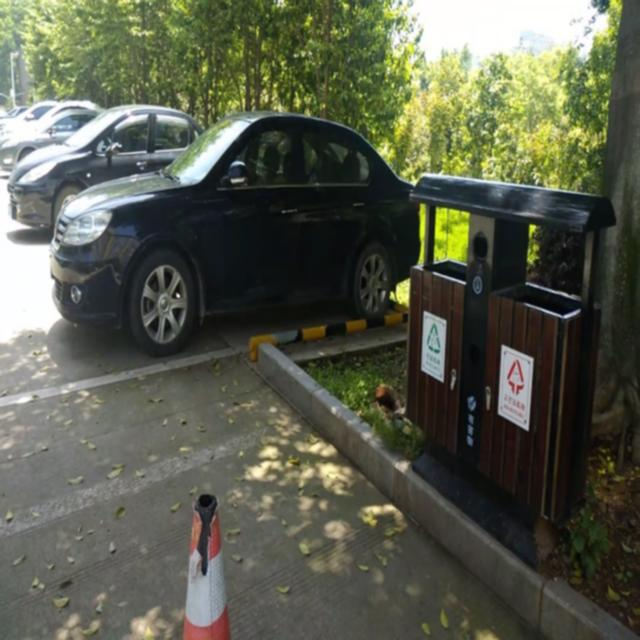ash bin: (403, 164, 614, 560)
car: (49, 106, 421, 350), (7, 102, 204, 234)
reflective_cone: (175, 496, 233, 639)
